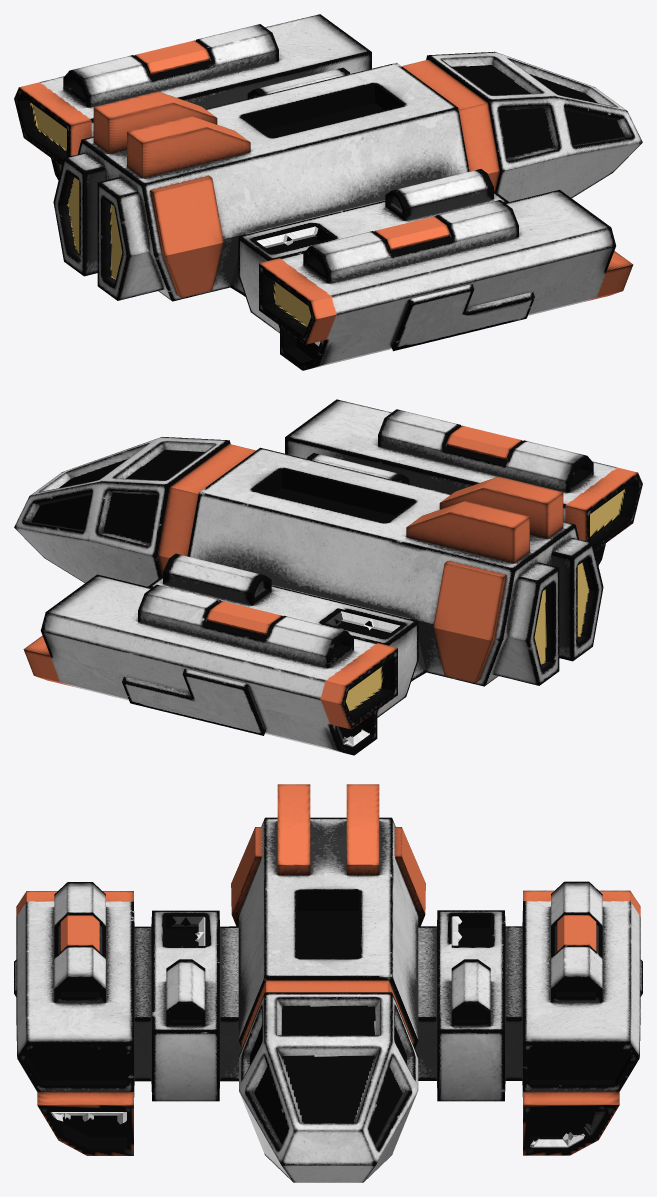
The model's file is StraightShipGen3.fbx.
The picture shows the model from 3 angles, top to bottom: view 1: azimuth 30°, elevation 25°; view 2: azimuth 150°, elevation 25°; view 3: azimuth 270°, elevation 25°; orthographic projection. The views are drawn at different scales.
Visible parts, largest first — view 1: Cube.019; view 2: Cube.019; view 3: Cube.019.
Boxes of the visible parts, x1,y1,x2,y2 form: Cube.019: (14,14,642,370); Cube.019: (14,399,642,755); Cube.019: (14,784,642,1182).
Bounding box in the file's own units: 471 × 150 × 469.
